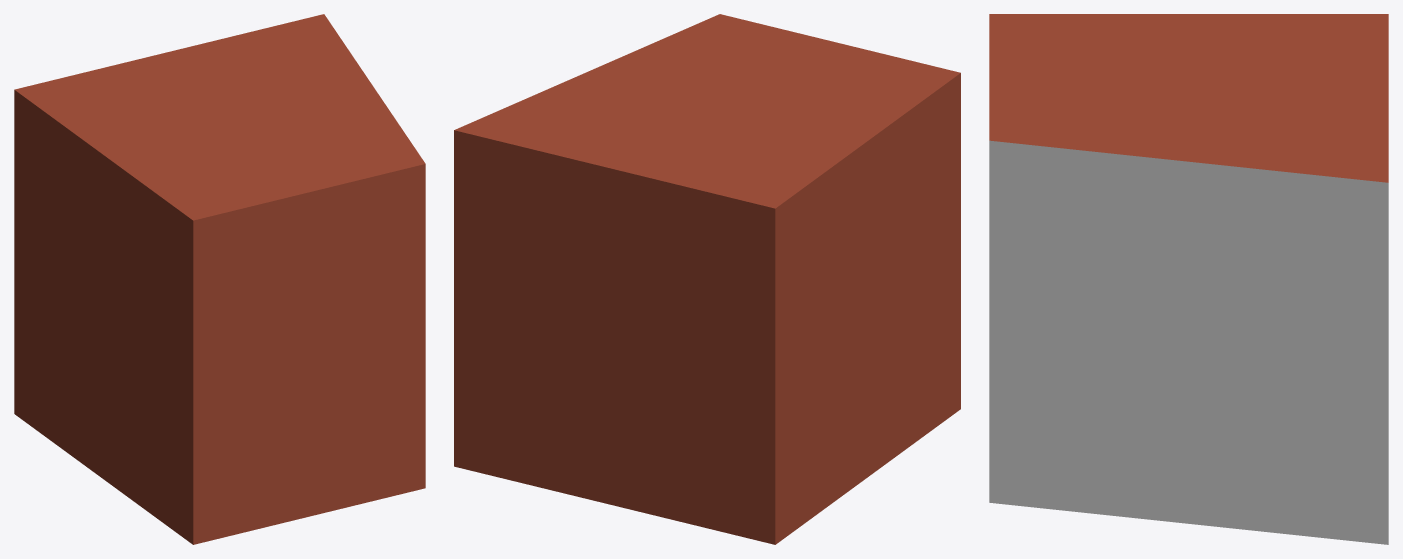
Rendered from r3c4_body_brown.gltf.
3 renders of one model, left to right at view 1: azimuth 30°, elevation 25°; view 2: azimuth 150°, elevation 25°; view 3: azimuth 270°, elevation 25°, orthographic. The views are drawn at different scales.
Parts seen in each view (by area): view 1: r3c4_body_brown; view 2: r3c4_body_brown; view 3: r3c4_body_brown.
Boxes of the visible parts, <box> form: r3c4_body_brown: <box>14,14,425,544</box>; r3c4_body_brown: <box>454,14,960,544</box>; r3c4_body_brown: <box>989,14,1388,544</box>.
Size of what is drawn, in the model's own units: 2 by 2 by 2.
1 material, 1 textured.
